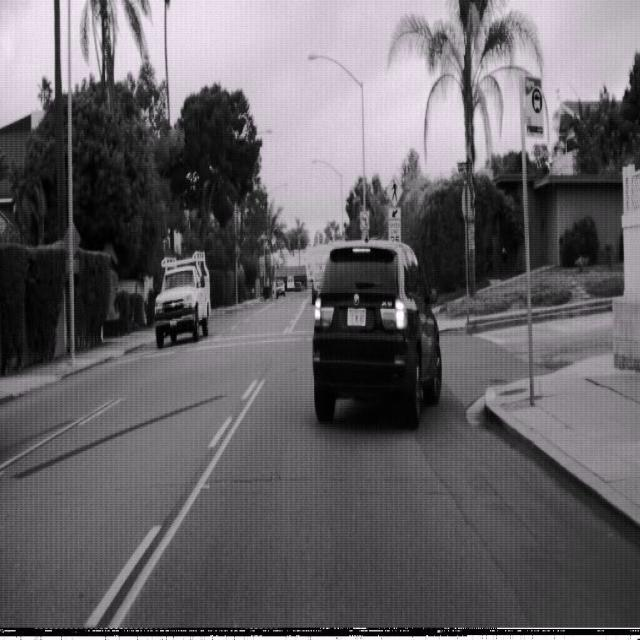pedestrianCrossing: (385, 174, 403, 207)
speedLimit25: (388, 218, 401, 249)
